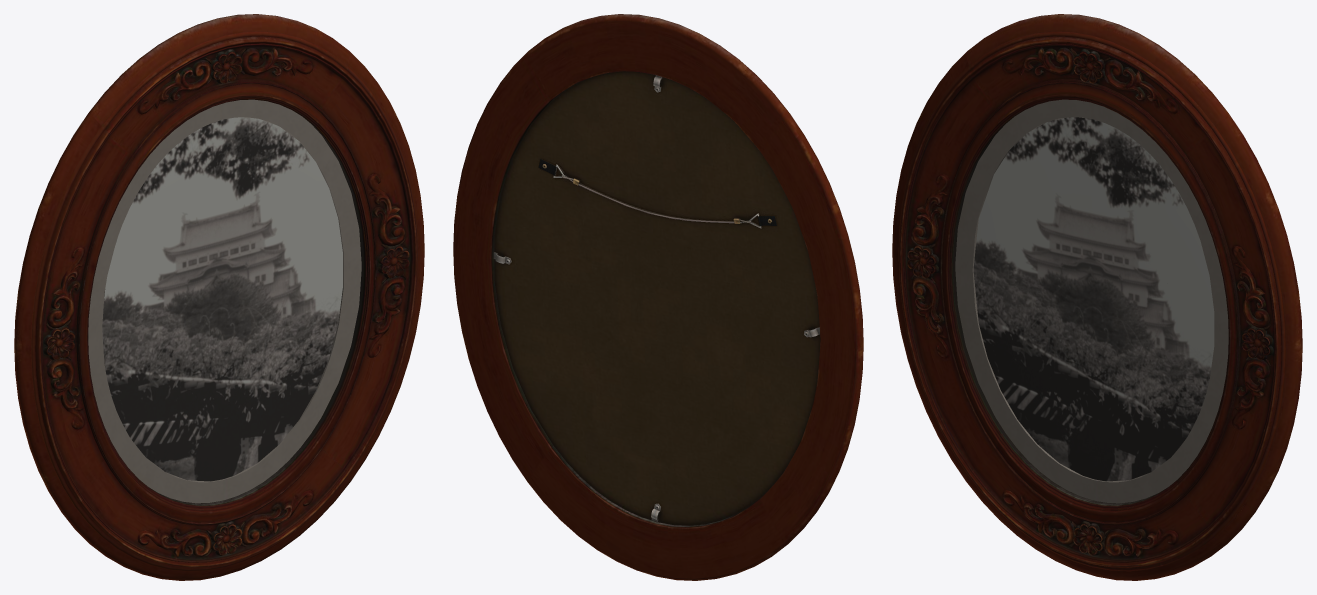
The model's file is hanging_picture_frame_03.glb.
The picture shows the model from 3 angles, left to right: view 1: azimuth 30°, elevation 25°; view 2: azimuth 150°, elevation 25°; view 3: azimuth 330°, elevation 25°; orthographic projection.
Parts seen in each view (by area): view 1: hanging_picture_frame_03, hanging_picture_frame_03_glass; view 2: hanging_picture_frame_03; view 3: hanging_picture_frame_03, hanging_picture_frame_03_glass.
Boxes of the visible parts, x1=… form: hanging_picture_frame_03: x1=14, y1=14, x2=424, y2=580; hanging_picture_frame_03_glass: x1=88, y1=100, x2=363, y2=504; hanging_picture_frame_03: x1=453, y1=14, x2=863, y2=580; hanging_picture_frame_03: x1=892, y1=14, x2=1302, y2=580; hanging_picture_frame_03_glass: x1=953, y1=100, x2=1228, y2=504.
Bounding box in the file's own units: 0.385 × 0.5024 × 0.0318.
Materials: 3 (2 with a texture image).
